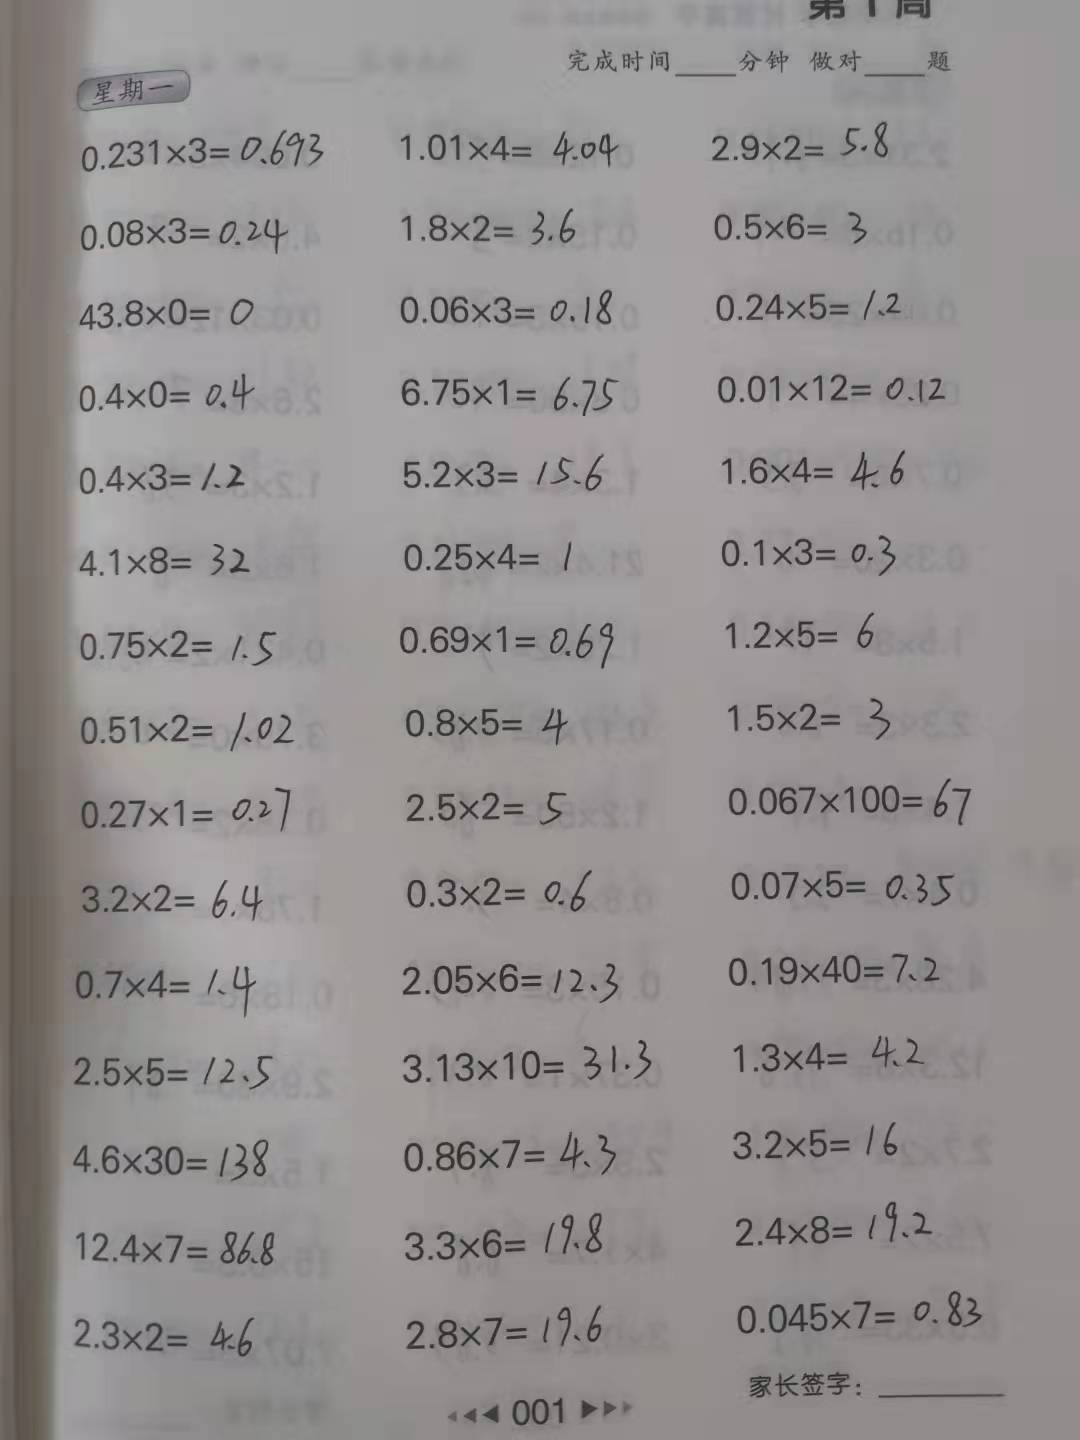equation: (391, 1032, 666, 1098), (720, 1278, 982, 1342), (393, 1200, 615, 1270), (390, 611, 618, 679), (74, 120, 336, 177), (715, 773, 984, 828), (71, 780, 298, 841), (395, 1120, 622, 1181), (395, 361, 624, 420), (400, 1296, 614, 1358), (390, 952, 626, 1008), (66, 1215, 282, 1276), (65, 958, 261, 1024), (387, 282, 628, 336), (395, 859, 600, 922), (704, 364, 961, 414), (729, 1200, 946, 1259), (71, 204, 301, 260), (716, 940, 945, 996), (388, 444, 615, 500), (70, 704, 310, 756), (391, 124, 631, 176), (68, 1306, 265, 1369), (70, 616, 286, 672), (64, 1133, 279, 1189), (720, 859, 963, 909), (68, 1043, 278, 1100), (68, 873, 279, 927), (704, 115, 898, 173), (73, 361, 264, 420), (719, 1111, 909, 1169), (73, 447, 261, 505), (393, 698, 581, 755), (389, 207, 598, 259), (719, 691, 898, 749), (716, 524, 898, 581), (716, 447, 916, 497), (708, 280, 910, 329), (71, 285, 268, 334), (70, 534, 262, 585), (387, 533, 590, 581), (726, 1031, 937, 1076), (395, 782, 579, 833), (708, 200, 877, 253), (718, 605, 884, 659)
